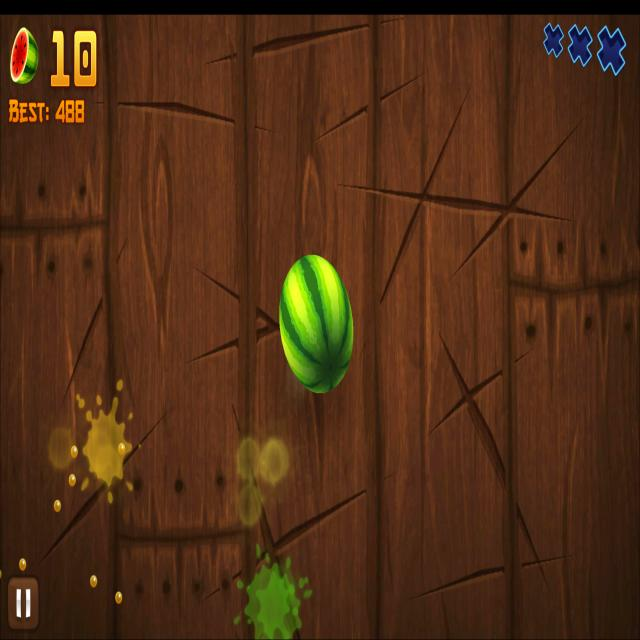fruit: (279, 253, 355, 395)
